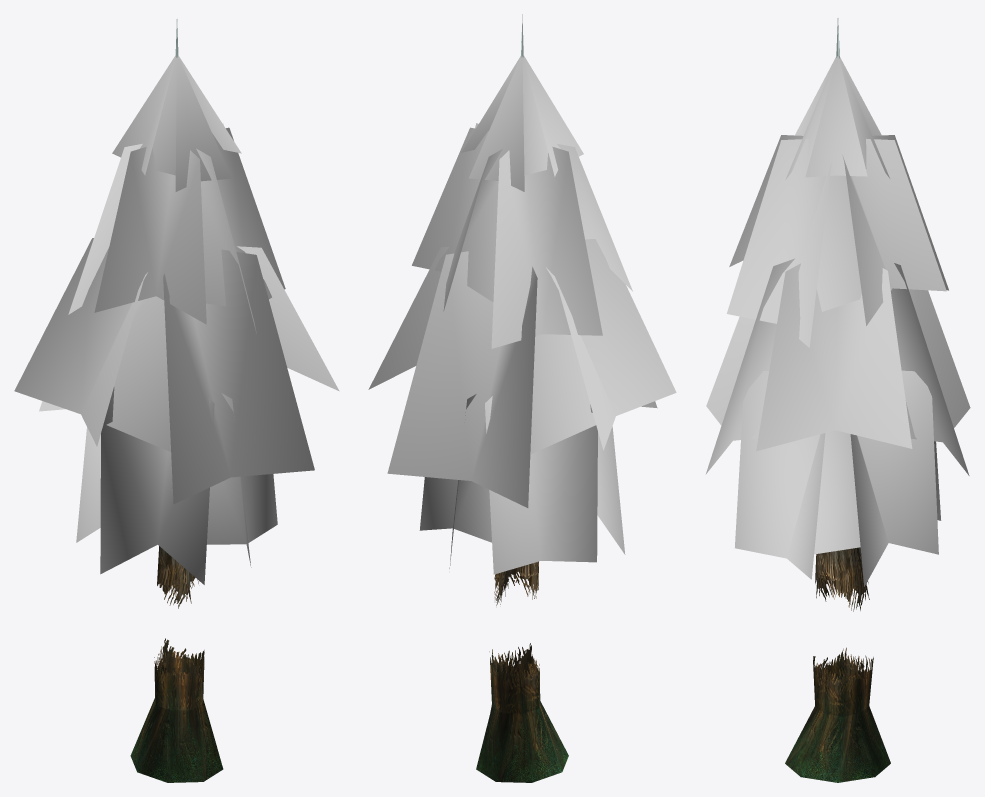
Rendered from silverpinetree01.obj.
The picture shows the model from 3 angles, left to right: view 1: azimuth 30°, elevation 25°; view 2: azimuth 150°, elevation 25°; view 3: azimuth 270°, elevation 25°; orthographic projection.
Parts seen in each view (by area): view 1: SILVERPINETREE012, SILVERPINETREE010, SILVERPINETREE011; view 2: SILVERPINETREE012, SILVERPINETREE010, SILVERPINETREE011; view 3: SILVERPINETREE012, SILVERPINETREE010, SILVERPINETREE011.
Part boxes in pixels (<box>): SILVERPINETREE012: <box>14,55,339,584</box>; SILVERPINETREE010: <box>130,19,223,782</box>; SILVERPINETREE011: <box>154,546,204,710</box>; SILVERPINETREE012: <box>368,55,676,574</box>; SILVERPINETREE010: <box>476,14,568,782</box>; SILVERPINETREE011: <box>489,561,540,713</box>; SILVERPINETREE012: <box>705,56,970,586</box>; SILVERPINETREE010: <box>785,18,890,782</box>; SILVERPINETREE011: <box>813,547,873,716</box>.
Size of the model in its own units: 20.22 by 59.34 by 19.02.
